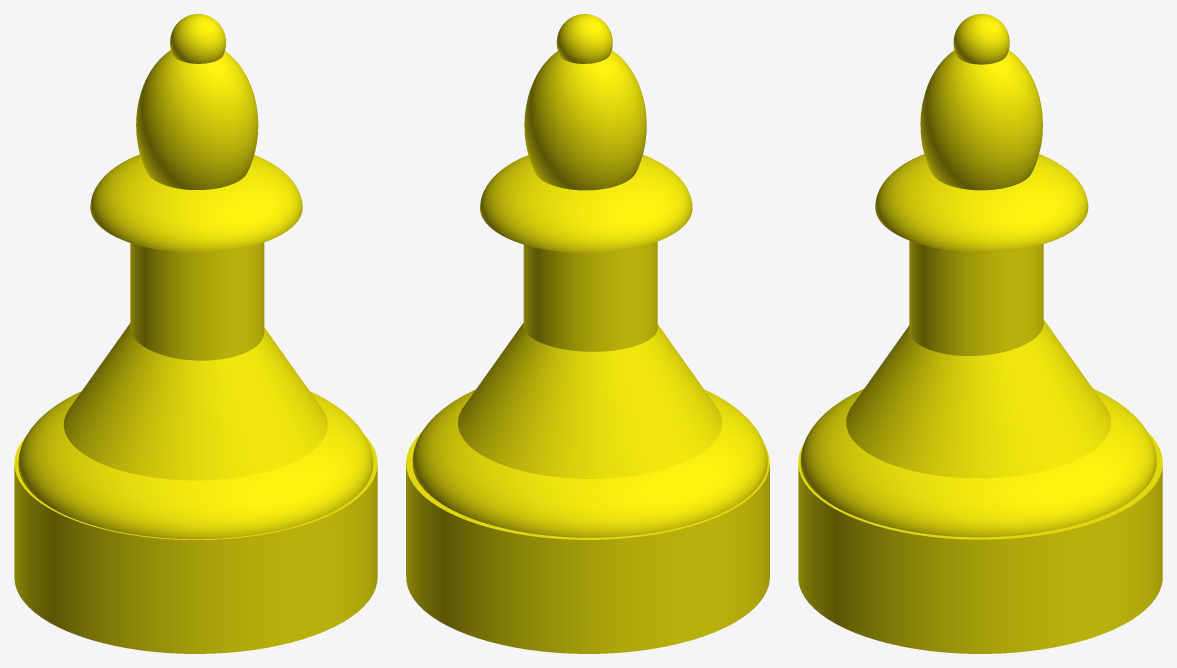
File: bishop.fbx
The picture shows the model from 3 angles, left to right: view 1: azimuth 30°, elevation 25°; view 2: azimuth 150°, elevation 25°; view 3: azimuth 270°, elevation 25°; orthographic projection.
Visible parts, largest first — view 1: node_id13, node_id17, node_id15, node_id11, node_id7, node_id9, node_id5; view 2: node_id13, node_id17, node_id15, node_id7, node_id9, node_id11, node_id5; view 3: node_id13, node_id17, node_id15, node_id7, node_id9, node_id11, node_id5.
Part boxes in pixels (bbox=[...]): node_id13: bbox=[14, 435, 377, 653]; node_id17: bbox=[63, 323, 327, 480]; node_id15: bbox=[18, 391, 372, 539]; node_id11: bbox=[130, 242, 264, 360]; node_id7: bbox=[90, 154, 302, 252]; node_id9: bbox=[136, 50, 258, 190]; node_id5: bbox=[170, 14, 225, 63]; node_id13: bbox=[406, 432, 769, 653]; node_id17: bbox=[458, 323, 722, 478]; node_id15: bbox=[412, 389, 767, 537]; node_id7: bbox=[480, 155, 692, 252]; node_id9: bbox=[524, 50, 646, 190]; node_id11: bbox=[523, 241, 657, 351]; node_id5: bbox=[556, 14, 612, 63]; node_id13: bbox=[798, 432, 1162, 653]; node_id17: bbox=[846, 319, 1110, 478]; node_id15: bbox=[800, 388, 1156, 537]; node_id7: bbox=[875, 154, 1088, 252]; node_id9: bbox=[920, 50, 1042, 190]; node_id11: bbox=[909, 240, 1043, 355]; node_id5: bbox=[953, 14, 1009, 64].
Size of the model in its own units: 0.3011 by 0.512 by 0.3011.
Materials: 7 (7 with a texture image).
